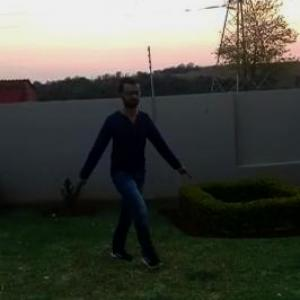land: (55, 70, 187, 291)
